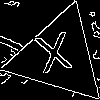X: (33, 31, 78, 83)
